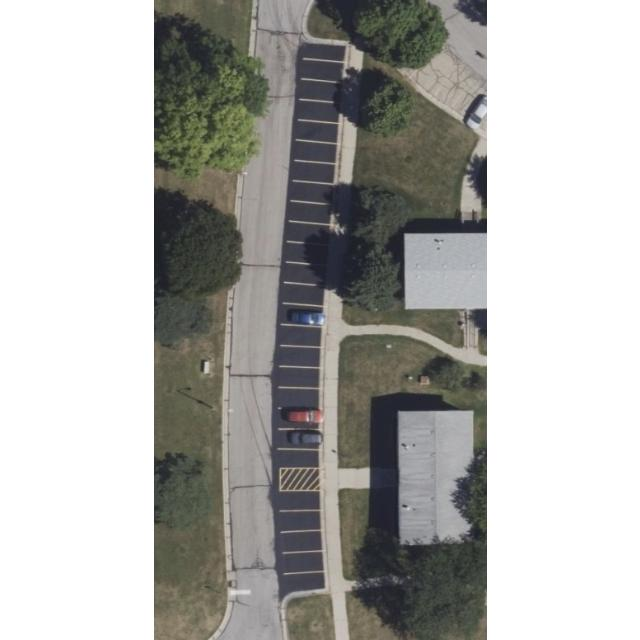Empty: (299, 58, 343, 83), (286, 221, 330, 246), (293, 140, 337, 164), (285, 242, 328, 266), (297, 120, 338, 145), (302, 40, 346, 63), (298, 79, 340, 103), (293, 161, 335, 185), (289, 201, 331, 225), (296, 100, 338, 123), (284, 263, 326, 286), (280, 510, 322, 533), (280, 530, 322, 553), (282, 551, 324, 574), (283, 571, 323, 595), (282, 283, 323, 306), (278, 367, 320, 389), (292, 181, 332, 204), (281, 325, 321, 348), (279, 491, 321, 512), (280, 346, 320, 368), (278, 388, 319, 409), (278, 449, 319, 469)
Parked: (282, 304, 323, 328), (278, 428, 320, 450), (278, 409, 320, 430)
